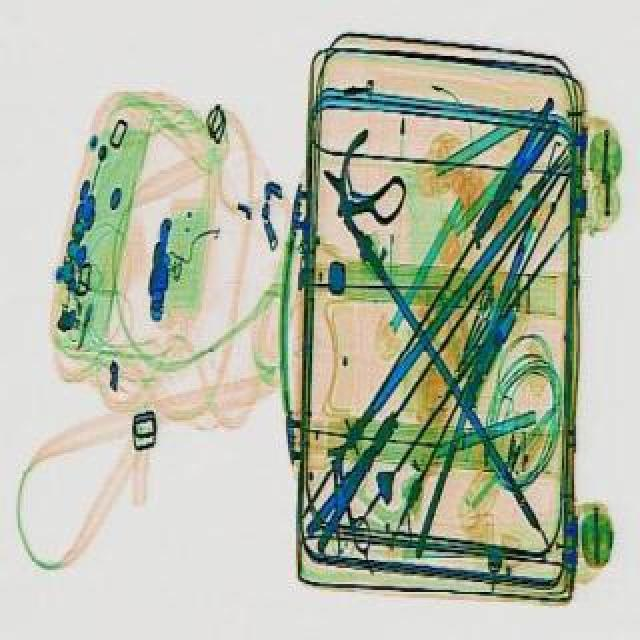pliers: (310, 452, 374, 562)
wrench: (464, 92, 572, 242)
